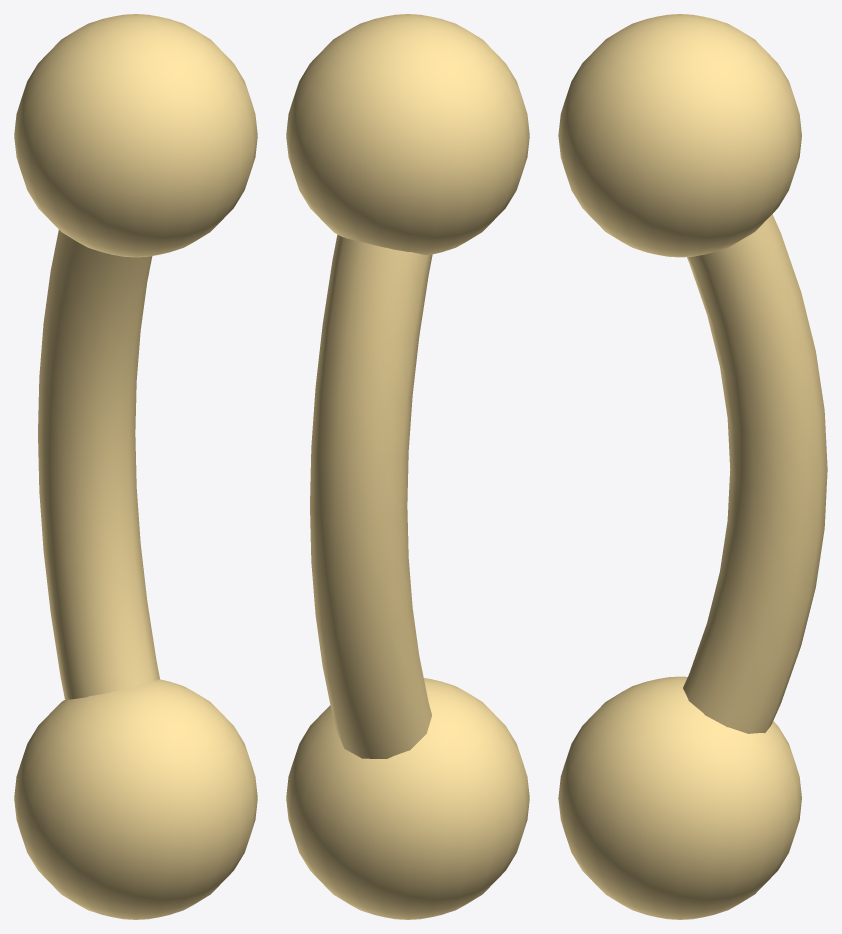
Rendered from curved-barbell-gold585-12mm-14g.glb.
3 views of the same model, side by side, from view 1: azimuth 30°, elevation 25°; view 2: azimuth 150°, elevation 25°; view 3: azimuth 270°, elevation 25° (orthographic).
Visible parts, largest first — view 1: curved_barbell; view 2: curved_barbell; view 3: curved_barbell.
Boxes of the visible parts, x1,y1,x2,y2 form: curved_barbell: (14,14,257,919); curved_barbell: (286,14,529,919); curved_barbell: (558,14,827,919).
Bounding box in the file's own units: 0.004 × 0.016 × 0.00442.
